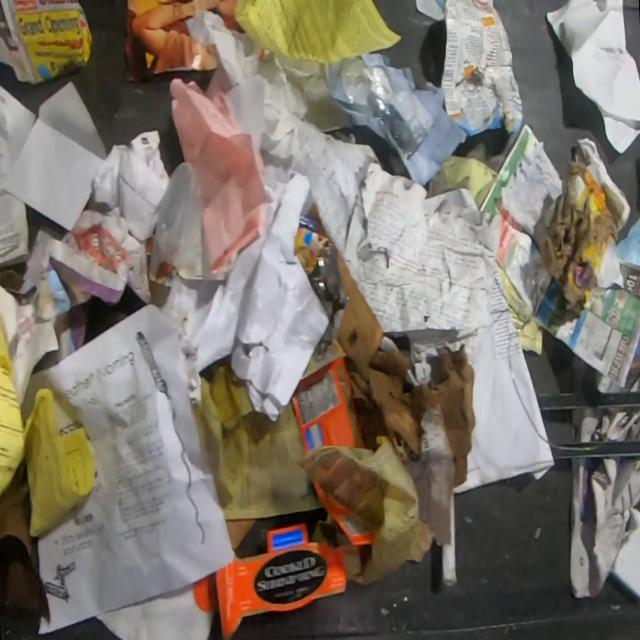cardboard: (300, 248, 476, 488), (192, 480, 382, 640), (538, 134, 632, 318), (438, 0, 526, 139), (86, 128, 170, 244), (290, 357, 368, 458), (31, 266, 94, 377), (294, 213, 329, 272), (224, 519, 258, 550), (0, 267, 27, 293)
metal: (536, 390, 640, 411), (550, 442, 640, 461)
rigid_plastic: (441, 494, 458, 589)
soft_plastic: (340, 55, 432, 158), (148, 158, 208, 284), (306, 237, 352, 364)
